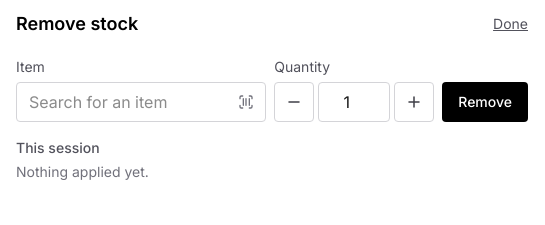
Test case: BatchEntry › never creates in remove mode — an unknown name shows an error and doesn't submit
In the dropdown labelled "Item": [141, 102] box [16,82,266,122], type "Lentils"
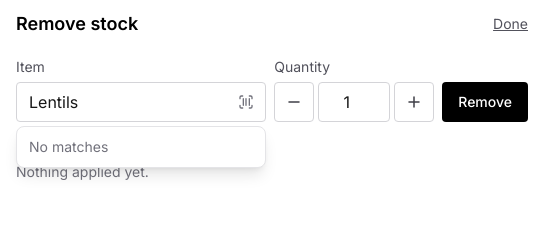
Click the button "Remove": [485, 102] box [442,82,528,122]
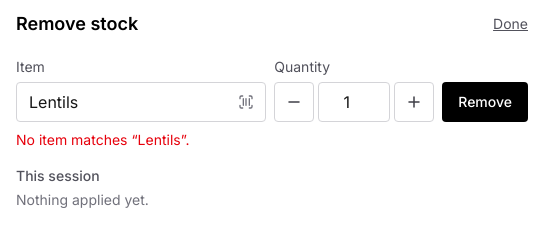
Expected: the message reads "No item matches “Lentils”.", [16,131,190,148]
